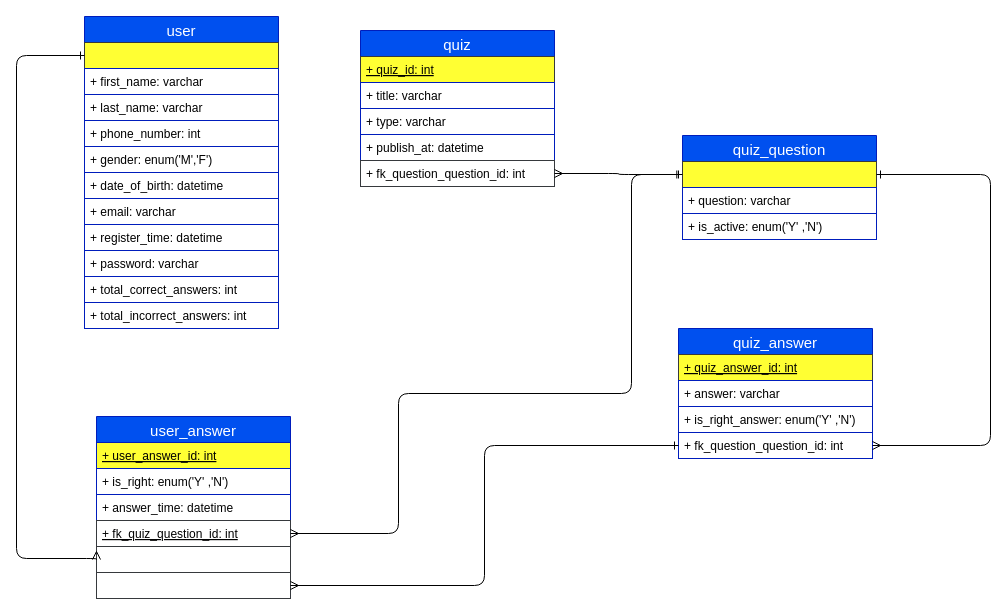
This 1007x615 diagram has some shape labels left out. Here are the shapes that lost their labels. From the top down, the centre of each, then its label:
(x=181, y=55): + user_id: int
(x=779, y=174): + quiz_question_id: int
(x=193, y=559): + fk_user_id: int
(x=193, y=585): + fk_quiz_answer_id: int
